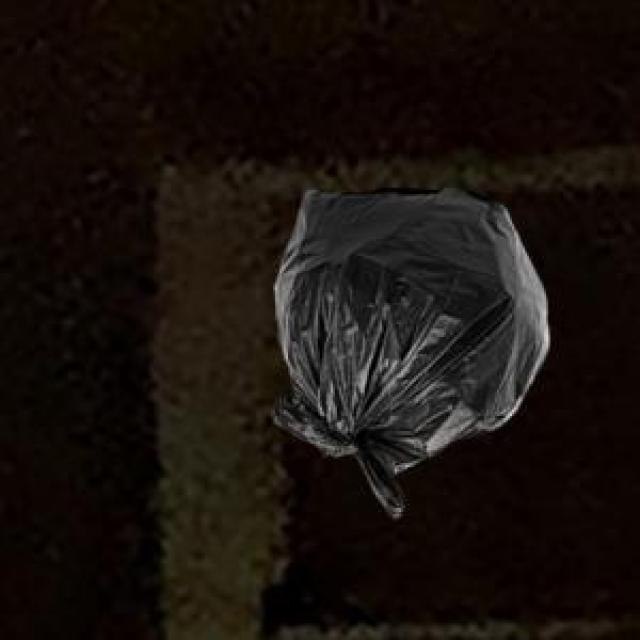Trashbag: (264, 182, 552, 521)
